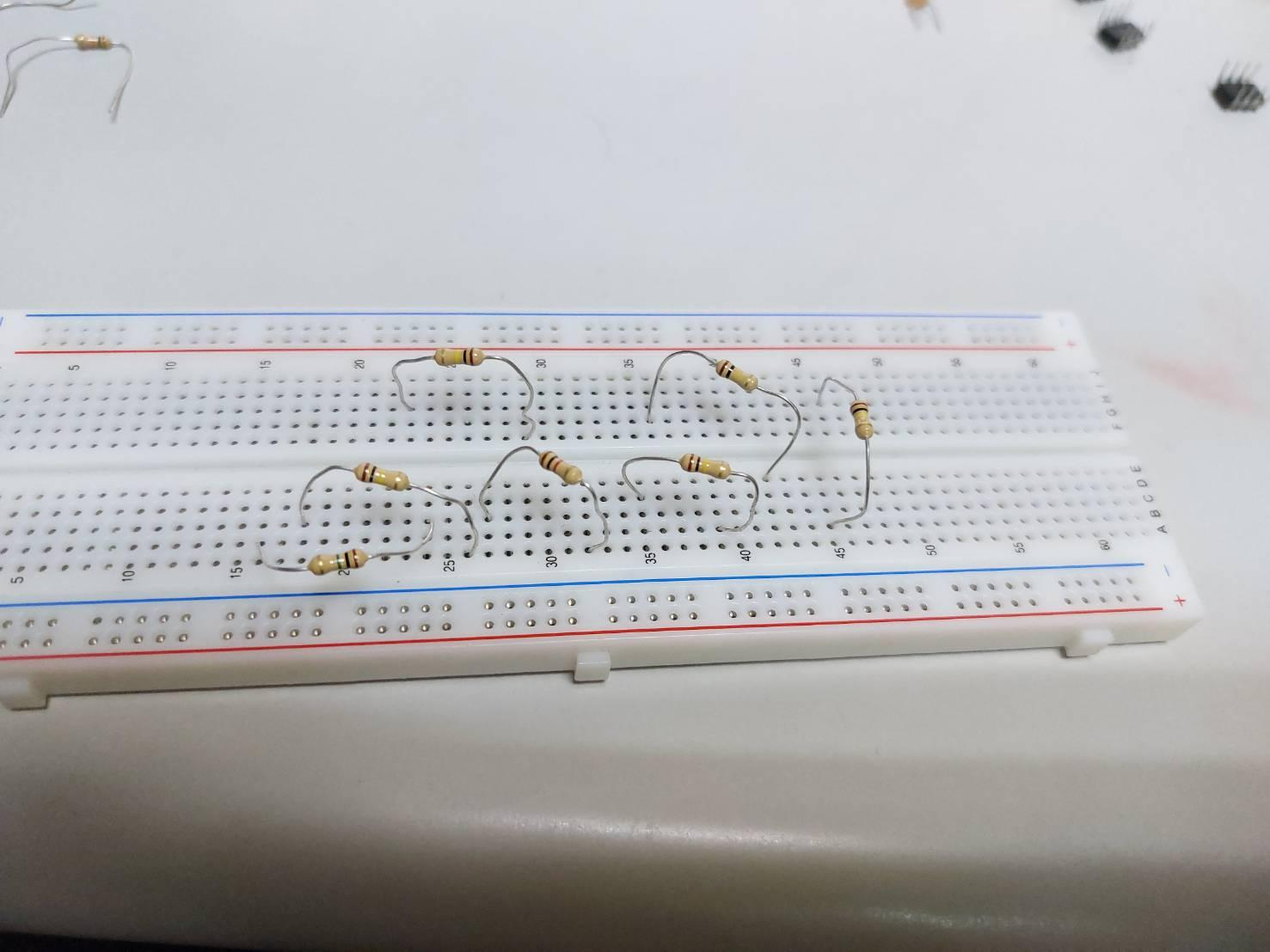resistor: (681, 449, 736, 481), (353, 462, 410, 491), (306, 549, 367, 576), (539, 449, 583, 485), (715, 360, 758, 393), (847, 400, 878, 441), (435, 347, 486, 366)
